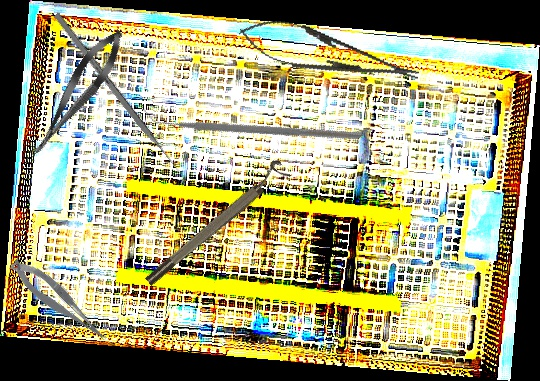Chopper: (141, 23, 364, 222)
Fixation Ring: (138, 157, 292, 289)
Micro Scissor: (20, 22, 133, 166), (6, 249, 111, 354)
Needle Holder: (234, 10, 424, 98)
Pusher: (53, 12, 184, 177)
